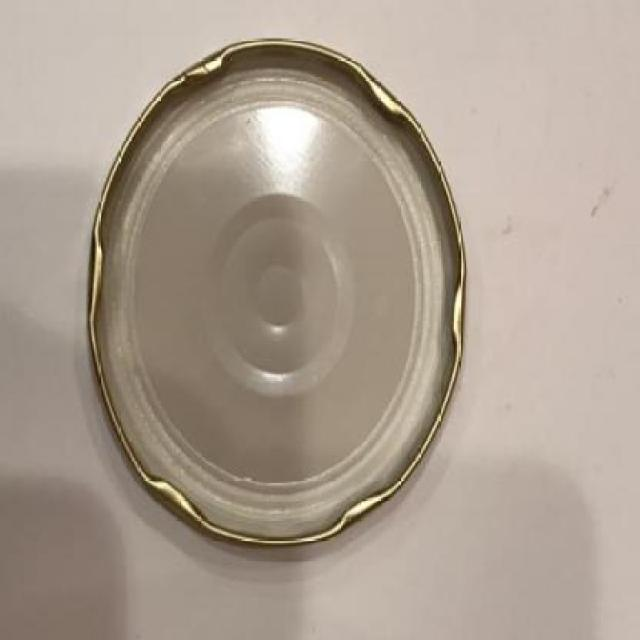METAL: (89, 36, 468, 547)
